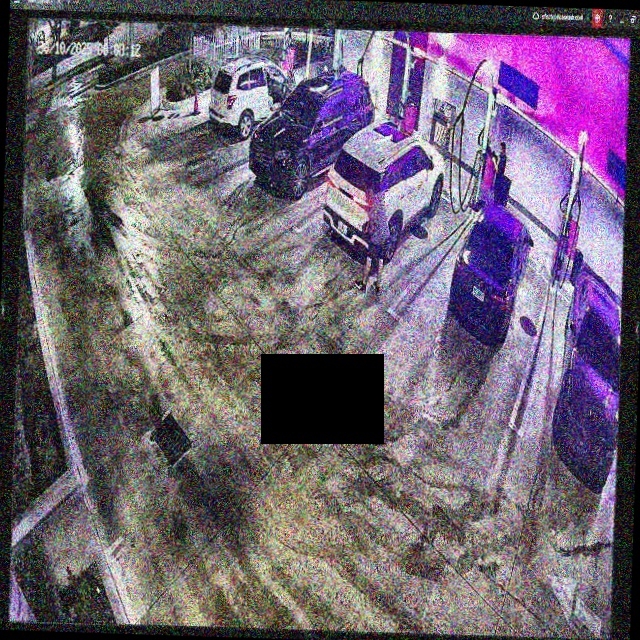Car: (324, 119, 449, 263), (249, 71, 376, 195), (447, 196, 534, 341)
